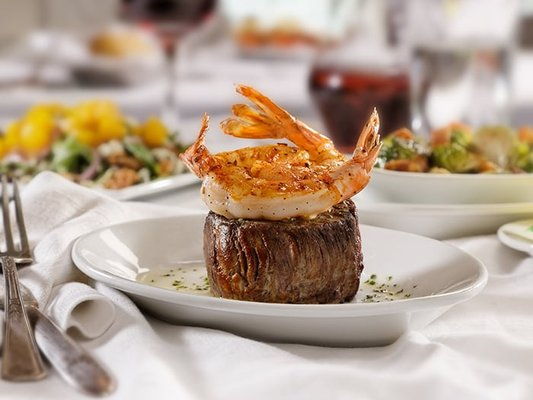salad: (17, 274, 118, 396), (0, 176, 47, 385)
soup: (180, 83, 378, 304)
sushi: (79, 219, 489, 348)
